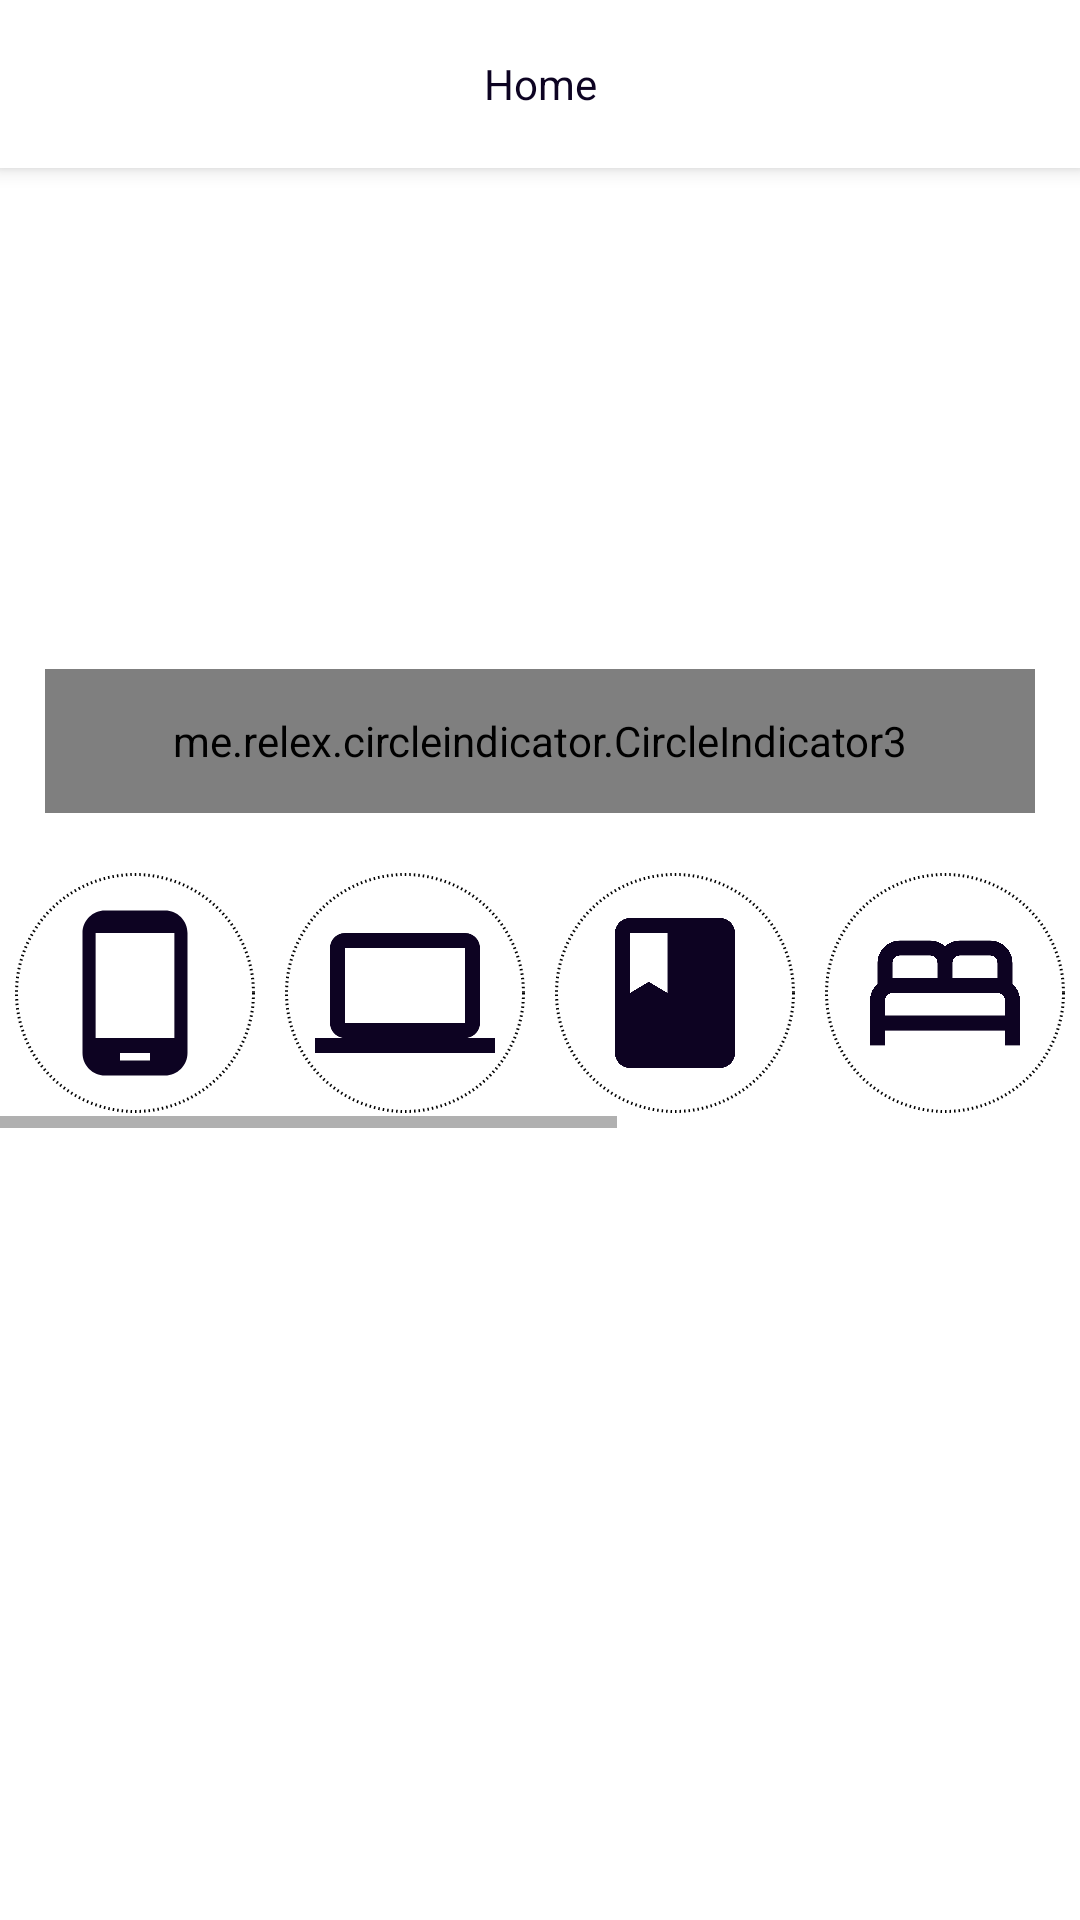

Locate icon controls on the screen. Image size 1080px x 1920px, boxes as (x1, y1, x2, y2).
bed: (825, 873, 1065, 1113)
book: (555, 873, 795, 1113)
laptop: (285, 873, 525, 1113)
phone: (15, 873, 255, 1113)
